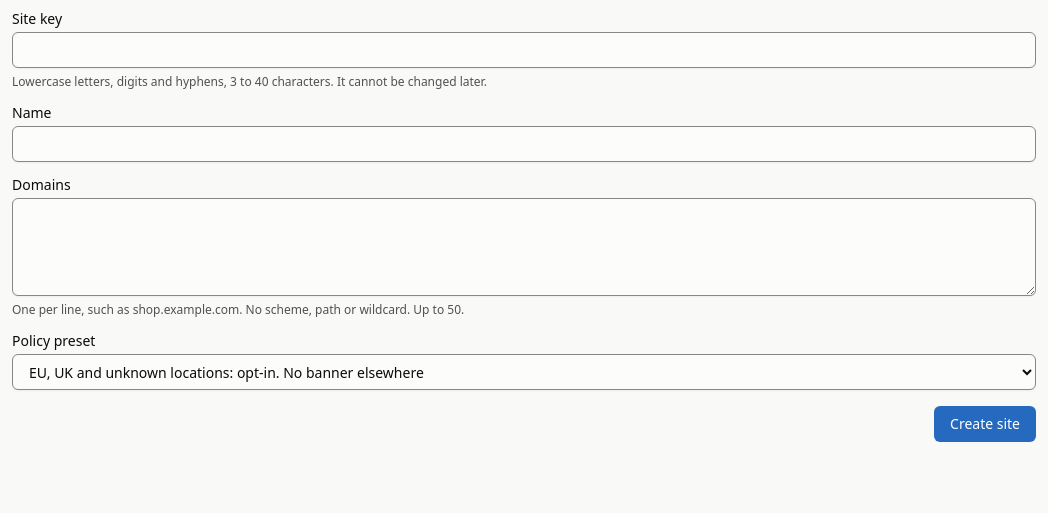
issues for unknown fields only also fall back to the form-level message
The image size is (1048, 513).
In the field labelled "Site key": (524, 50) [12, 32, 1036, 68], type "shop"
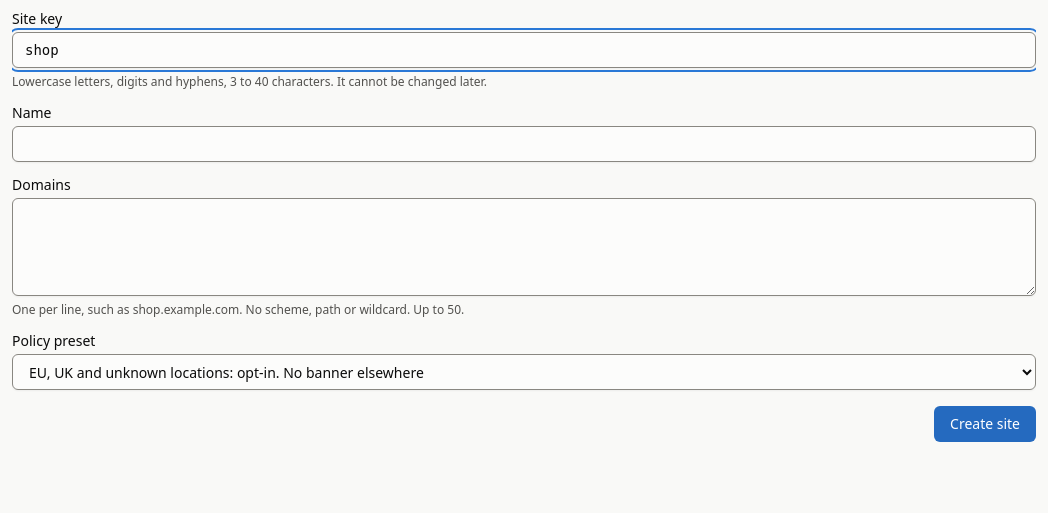
In the field labelled "Name": (524, 144) [12, 126, 1036, 162], type "Shop"
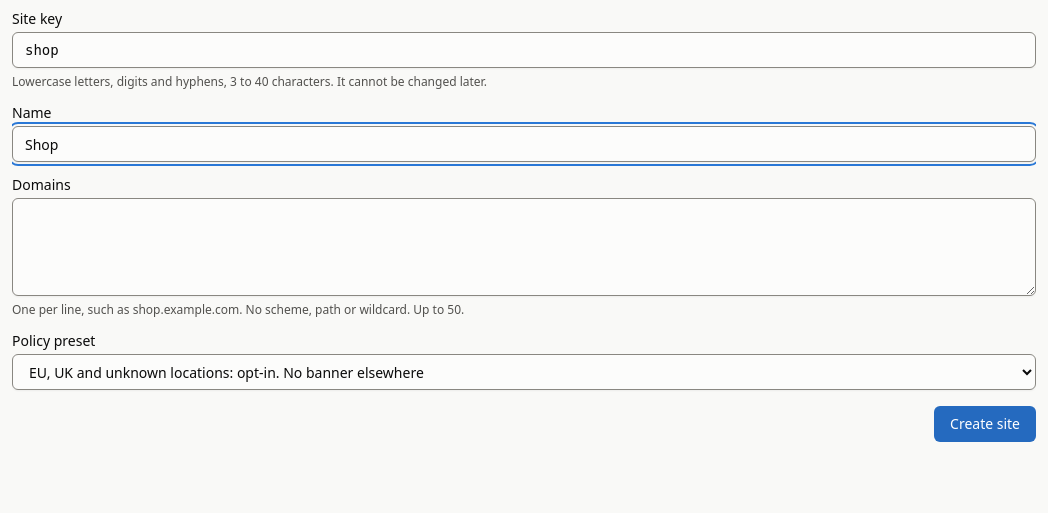
In the text box labelled "Domains": (524, 247) [12, 198, 1036, 296], type "shop.example.com"
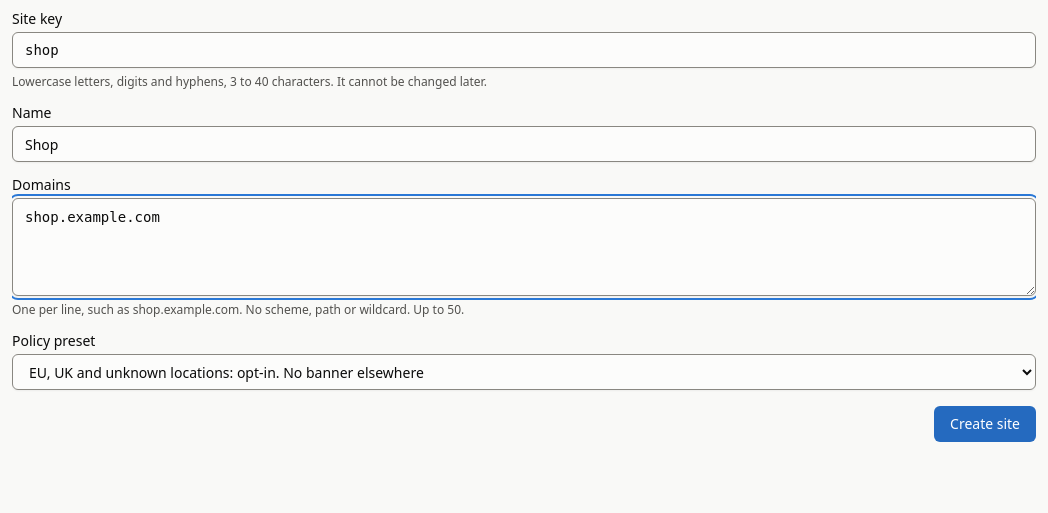
Click the button "Create site": (985, 424) [934, 406, 1036, 442]
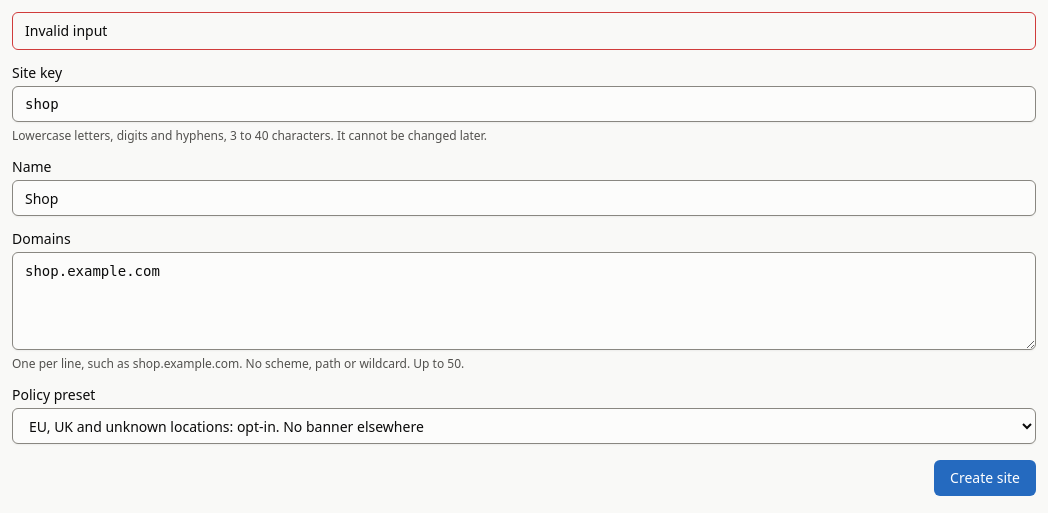
Now the message reads "Invalid input", box [25, 21, 107, 40]
